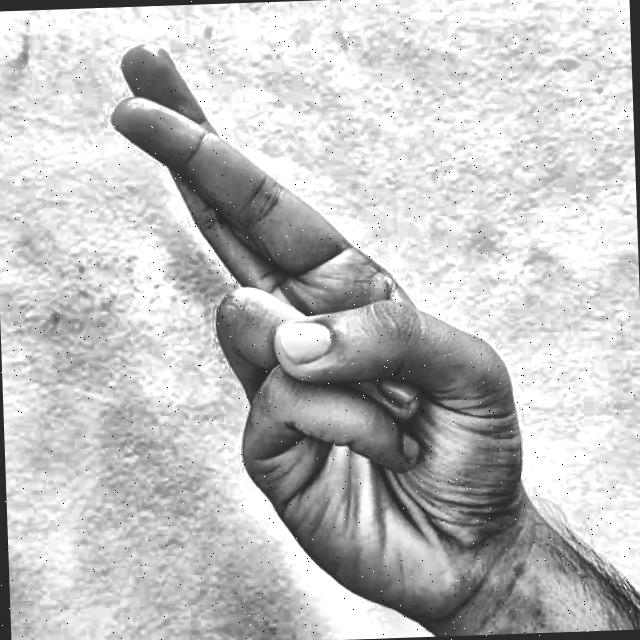Ra: (66, 7, 561, 640)
